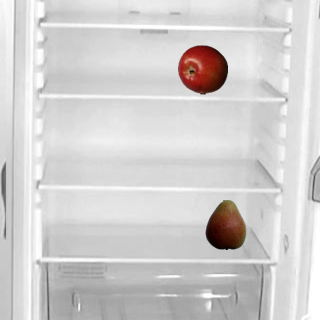Apple Braeburn: (177, 44, 227, 94)
Pear Forelle: (200, 199, 250, 249)
